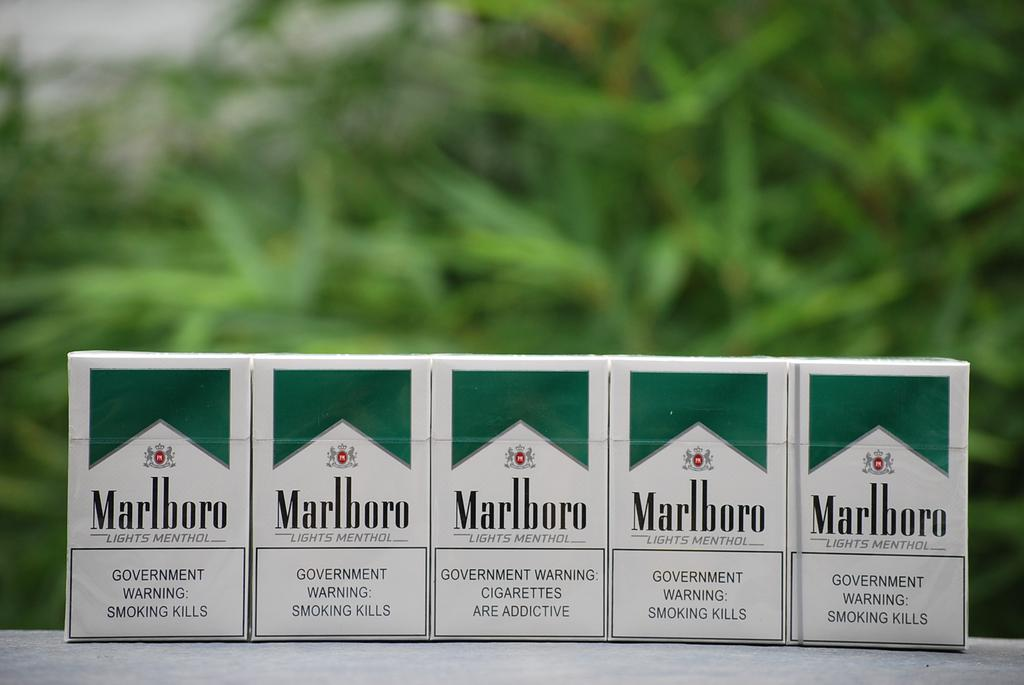marlboro_mentol: (65, 357, 250, 648), (427, 357, 612, 645), (612, 360, 793, 643), (796, 360, 965, 648), (253, 360, 429, 636)
